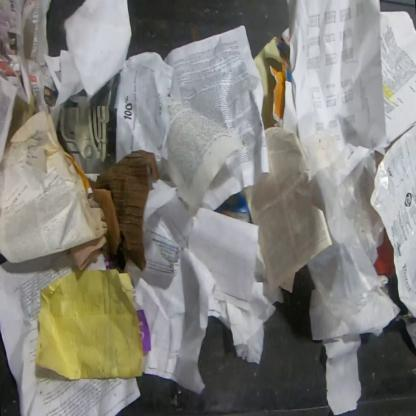cardboard: (88, 149, 160, 272), (269, 38, 292, 128)
soft_plastic: (300, 130, 389, 318)
